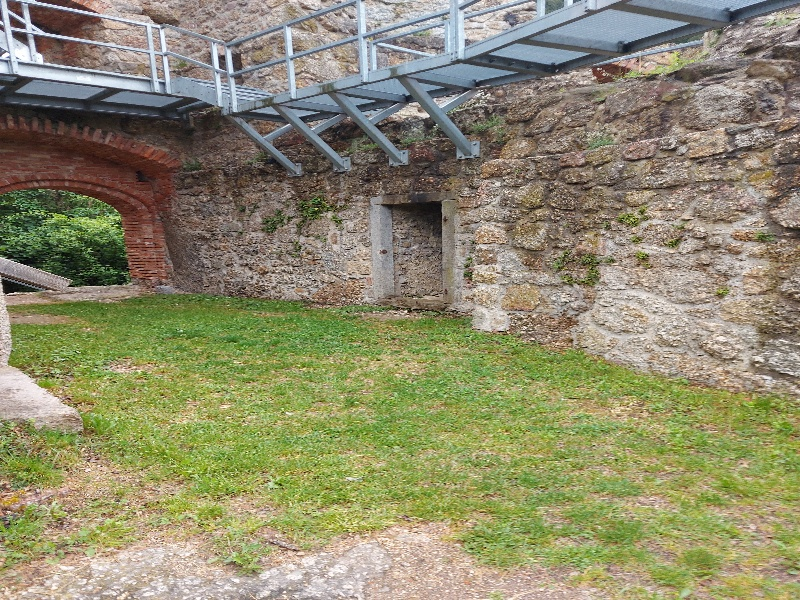door1: (365, 189, 464, 316)
